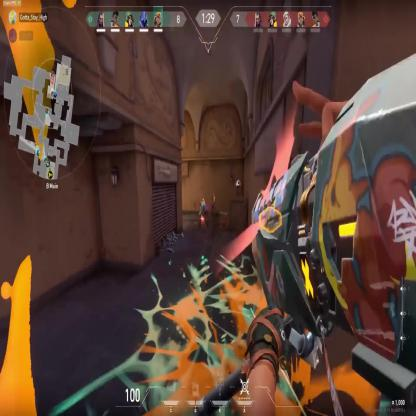enemy: (200, 197, 206, 228), (211, 189, 215, 215)
enemy_head: (202, 198, 204, 204), (213, 192, 214, 196)
